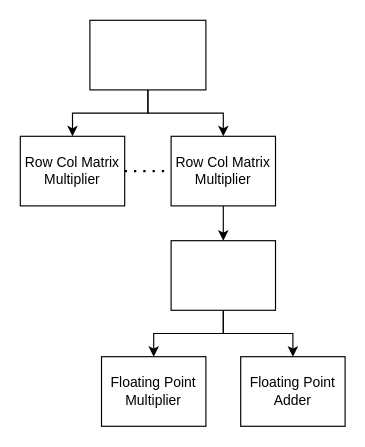
Some shapes in this 365 by 447 pixel diagram are drawn without their labels. Each missing label, with the centre of its shape:
Parallel Matrix Multiplier: point (147, 54)
Sequential Matrix Multiplier: point (223, 275)
